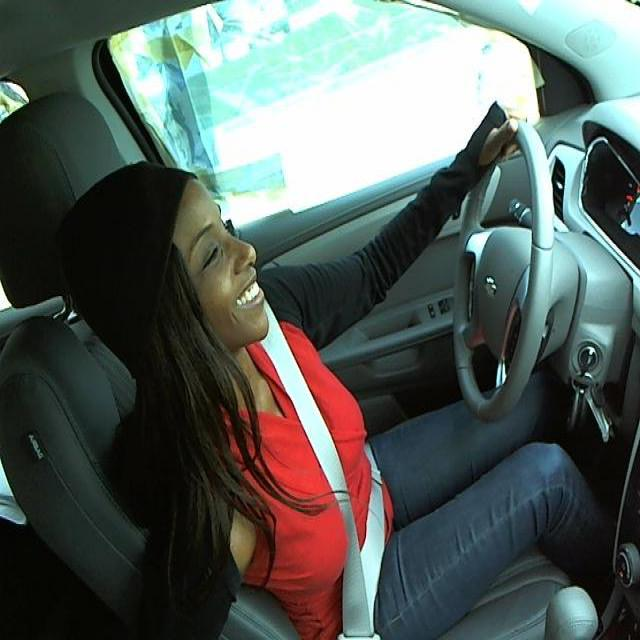seatbelt: (270, 345, 401, 624)
